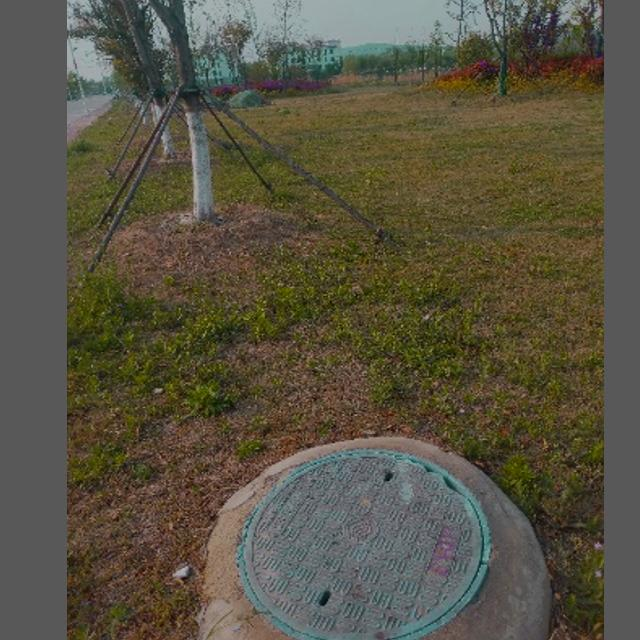good: (239, 446, 496, 640)
